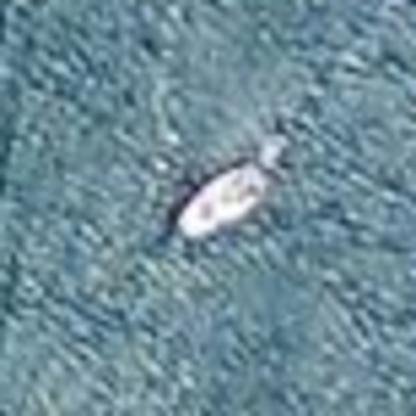ship: (172, 152, 298, 250)
